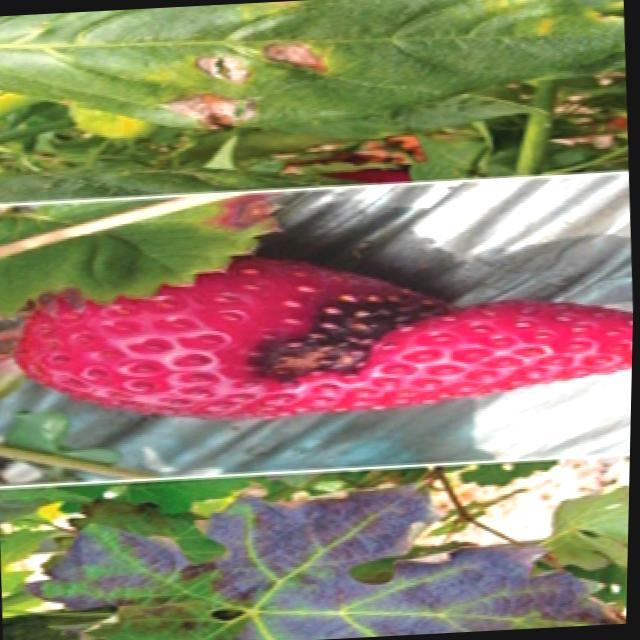Anthracnose Fruit Rot: (236, 280, 453, 393)
